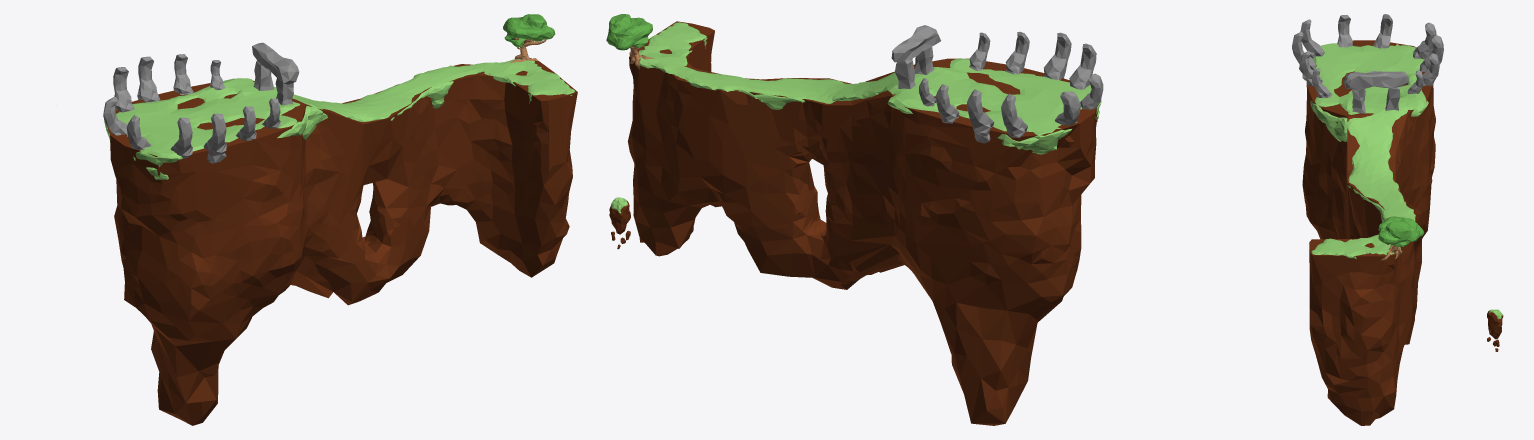
Rendered from Uno_Isola8.fbx.
3 views of the same model, side by side, from view 1: azimuth 30°, elevation 25°; view 2: azimuth 150°, elevation 25°; view 3: azimuth 270°, elevation 25° (orthographic). The views are drawn at different scales.
Visible parts, largest first — view 1: Plane.015, Plane.021, Mball.004, Sphere.134, Sphere.141, Sphere.137, Sphere.138, Sphere.142, Sphere.136, Sphere.143; view 2: Plane.015, Plane.021, Mball.004, Sphere.134, Sphere.137, Sphere.141, Sphere.142, Sphere.138, Sphere.140, Sphere.143, Sphere.136; view 3: Plane.015, Plane.021, Mball.004, Sphere.134, Sphere.138, Sphere.142, Sphere.143, Sphere.144, Sphere.141, Sphere.137, Sphere.136, Sphere.069 (+4 smaller).
Boxes of the visible parts, x1,y1,x2,y2 form: Plane.015: (107,57,577,425); Plane.021: (104,59,574,179); Mball.004: (503,14,555,47); Sphere.134: (252,42,299,84); Sphere.141: (203,113,226,163); Sphere.137: (137,56,160,102); Sphere.138: (113,67,134,112); Sphere.142: (170,117,192,158); Sphere.136: (173,54,193,94); Sphere.143: (103,96,127,135); Plane.015: (628,21,1097,425); Plane.021: (638,22,1101,154); Mball.004: (606,14,652,50); Sphere.134: (891,25,940,62); Sphere.137: (967,89,994,143); Sphere.141: (1044,32,1071,80); Sphere.142: (1069,43,1096,89); Sphere.138: (1001,93,1027,138); Sphere.140: (1005,31,1029,74); Sphere.143: (1055,91,1080,125); Sphere.136: (935,84,959,123); Plane.015: (1302,40,1435,425); Plane.021: (1310,43,1428,258); Mball.004: (1378,216,1424,246); Sphere.134: (1343,71,1408,89); Sphere.138: (1413,22,1436,59); Sphere.142: (1300,19,1324,58); Sphere.143: (1373,14,1392,48); Sphere.144: (1337,15,1352,47); Sphere.141: (1292,31,1316,80); Sphere.137: (1419,35,1443,71); Sphere.136: (1423,53,1439,86); Sphere.069: (1487,311,1503,339).
Size of the model in its own units: 1416 by 880 by 771.
